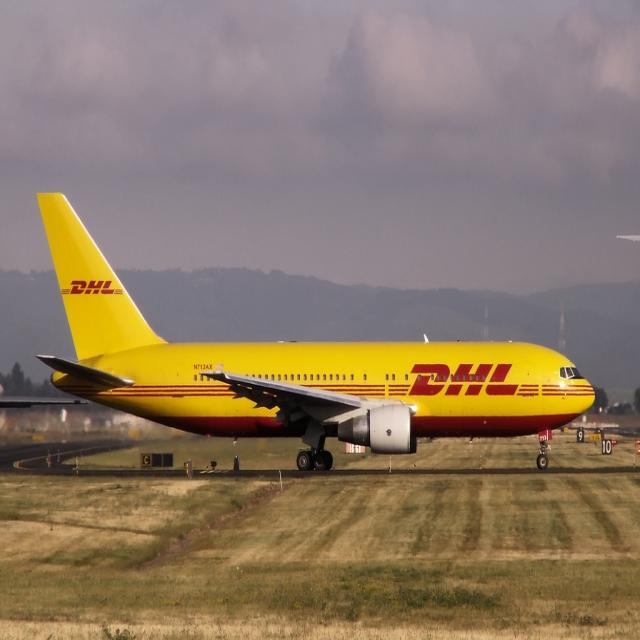dhl: (386, 357, 542, 403), (61, 274, 129, 303)
